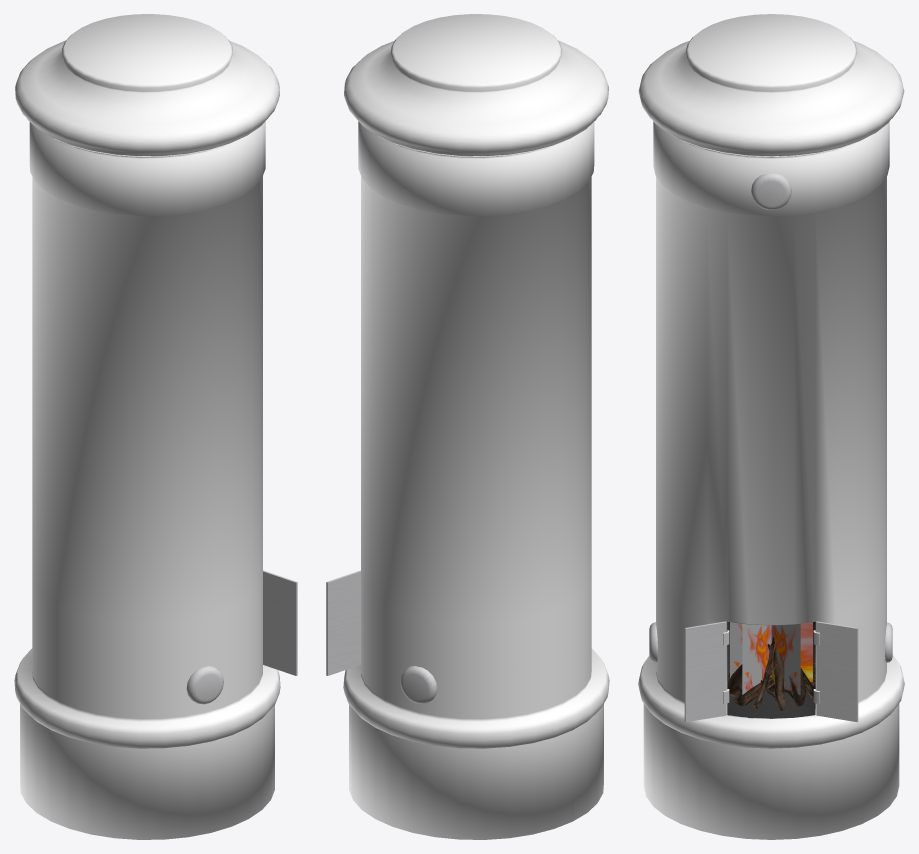
Rendered from havedal.glb.
3 views of the same model, side by side, from view 1: azimuth 30°, elevation 25°; view 2: azimuth 150°, elevation 25°; view 3: azimuth 270°, elevation 25° (orthographic).
Parts seen in each view (by area): view 1: Cylinder, Cylinder.005, Cylinder.003; view 2: Cylinder, Cylinder.004, Cylinder.002; view 3: Cylinder, Cylinder.004, Cylinder.005, Campfire, Plane.001, Plane.003, Plane, Cylinder.001.
Boxes of the visible parts, bbox=[...] form: Cylinder: bbox=[14, 14, 280, 839]; Cylinder.005: bbox=[263, 570, 297, 675]; Cylinder.003: bbox=[186, 666, 223, 704]; Cylinder: bbox=[343, 14, 609, 839]; Cylinder.004: bbox=[326, 570, 360, 675]; Cylinder.002: bbox=[400, 666, 437, 703]; Cylinder: bbox=[638, 14, 904, 839]; Cylinder.004: bbox=[816, 621, 858, 722]; Cylinder.005: bbox=[684, 621, 726, 722]; Campfire: bbox=[727, 637, 815, 710]; Plane.001: bbox=[742, 623, 771, 694]; Plane.003: bbox=[771, 623, 800, 695]; Plane: bbox=[730, 622, 812, 682]; Cylinder.001: bbox=[751, 173, 791, 209].
Size of the model in its own units: 0.771 by 2.35 by 0.771.
1 material, 1 textured.
